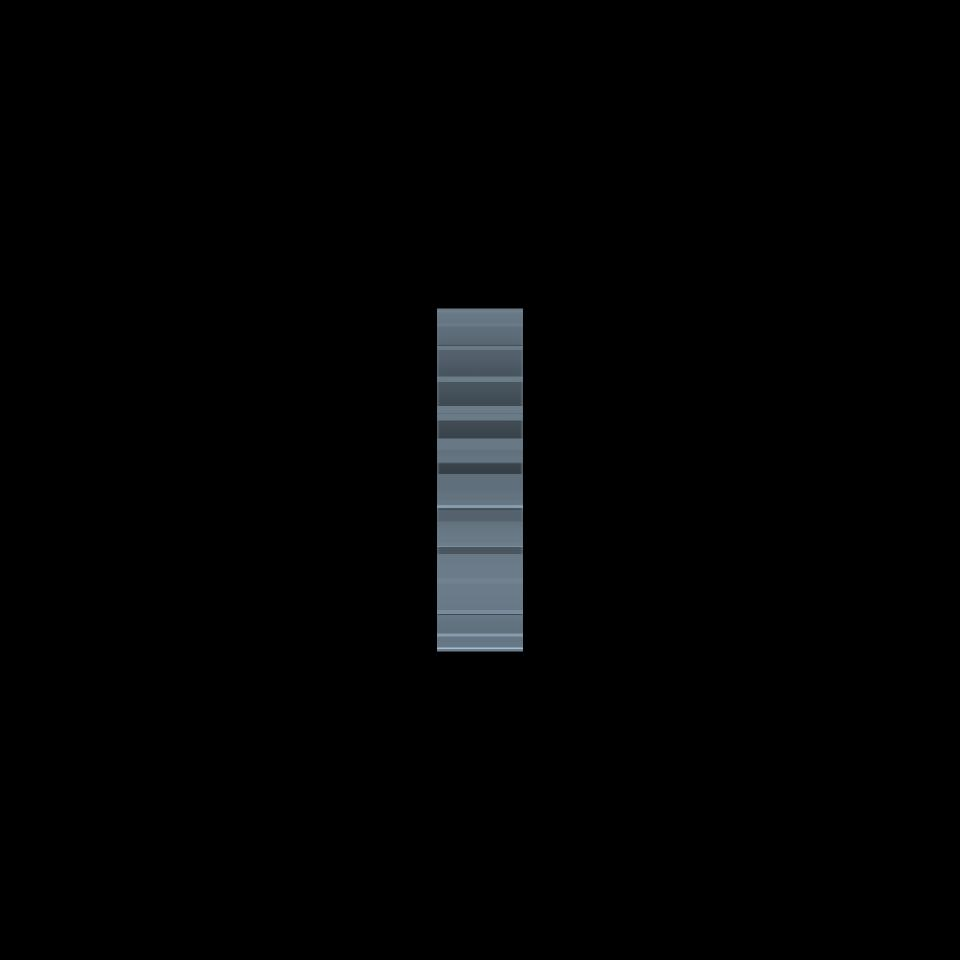Straight: (436, 307, 523, 650)
